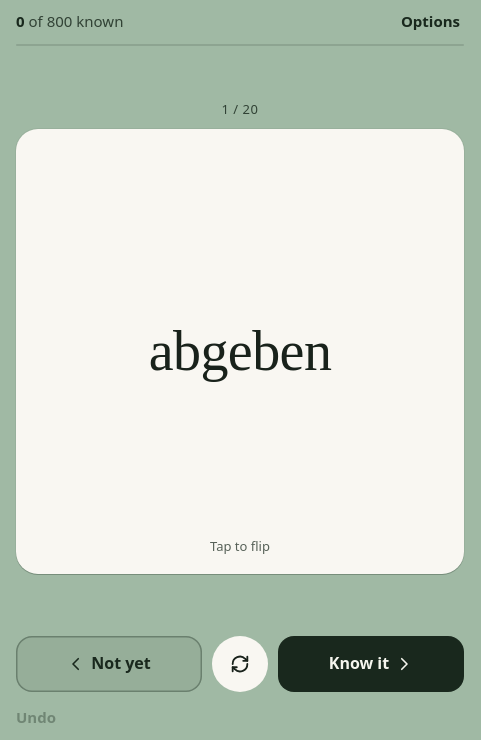
Scenario: App › still works when localStorage throws
The width and height of the screenshot is (481, 740).
Click the button "Know it" at (371, 664), box [278,636,464,692]
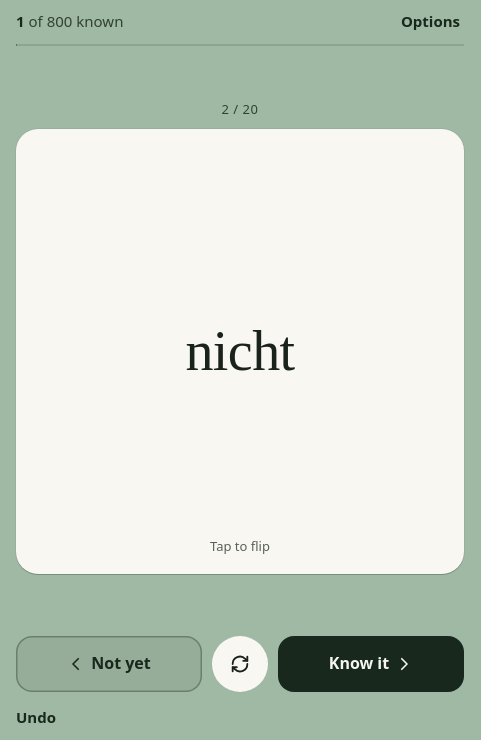
Expected: the text "2 / 20" is shown, [222,100,258,118]
